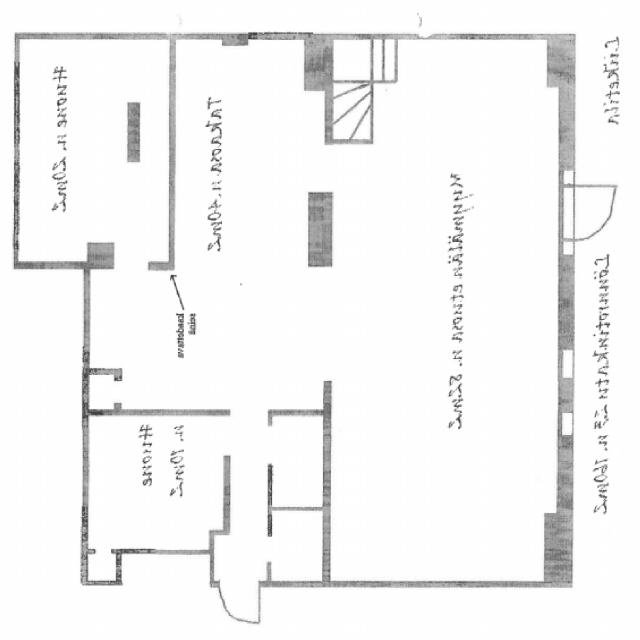door: (559, 186, 619, 237), (220, 579, 259, 628)
